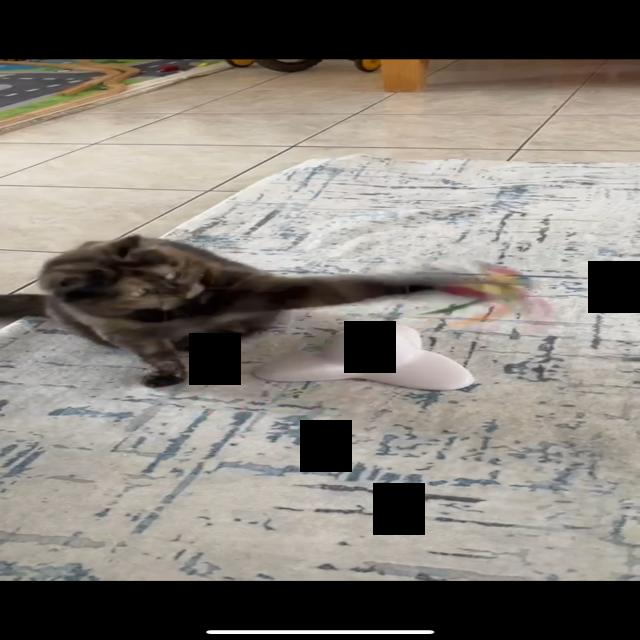authorized: (2, 233, 537, 388)
